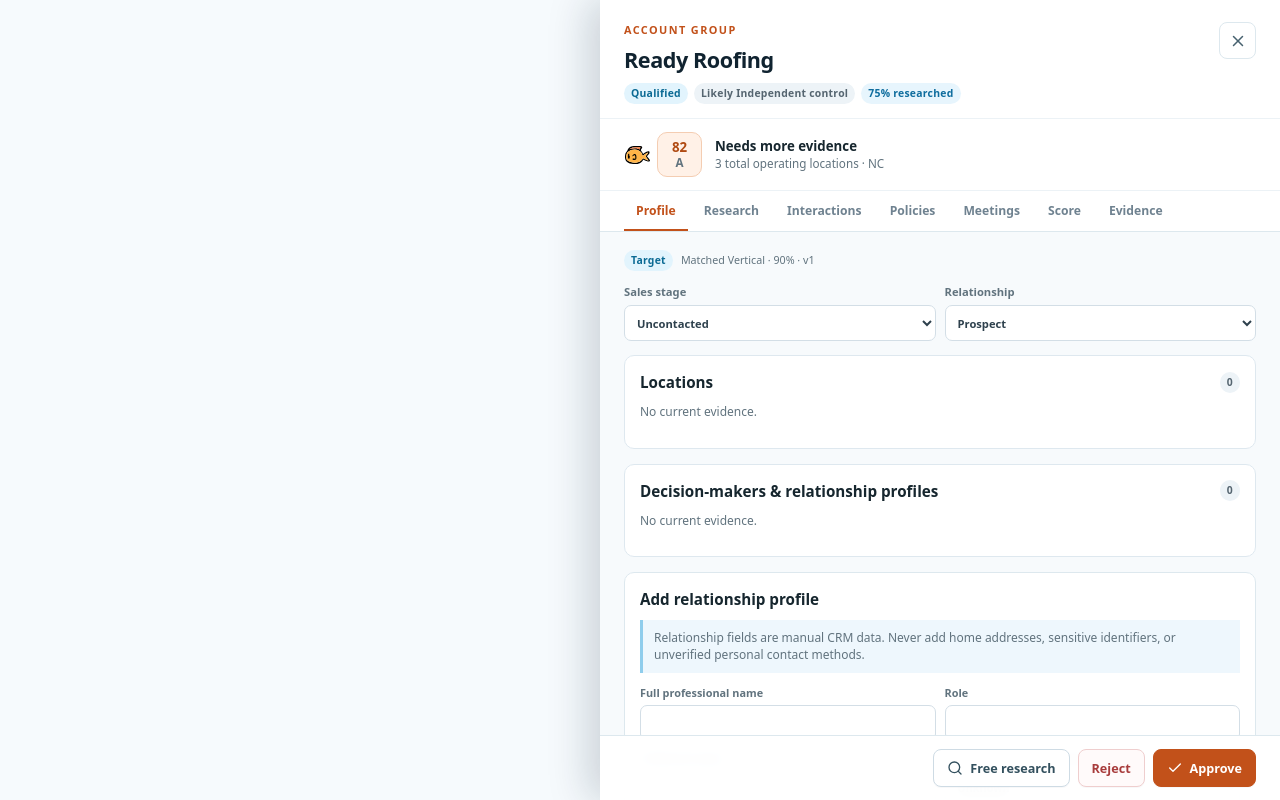
Test: LeadDetail CRM workspace › keeps interaction and policy history on the same account
What coordinates should you click on to do the following:
click the button "Interactions"
I would click on:
 (824, 211)
Its box is [775, 191, 874, 231].
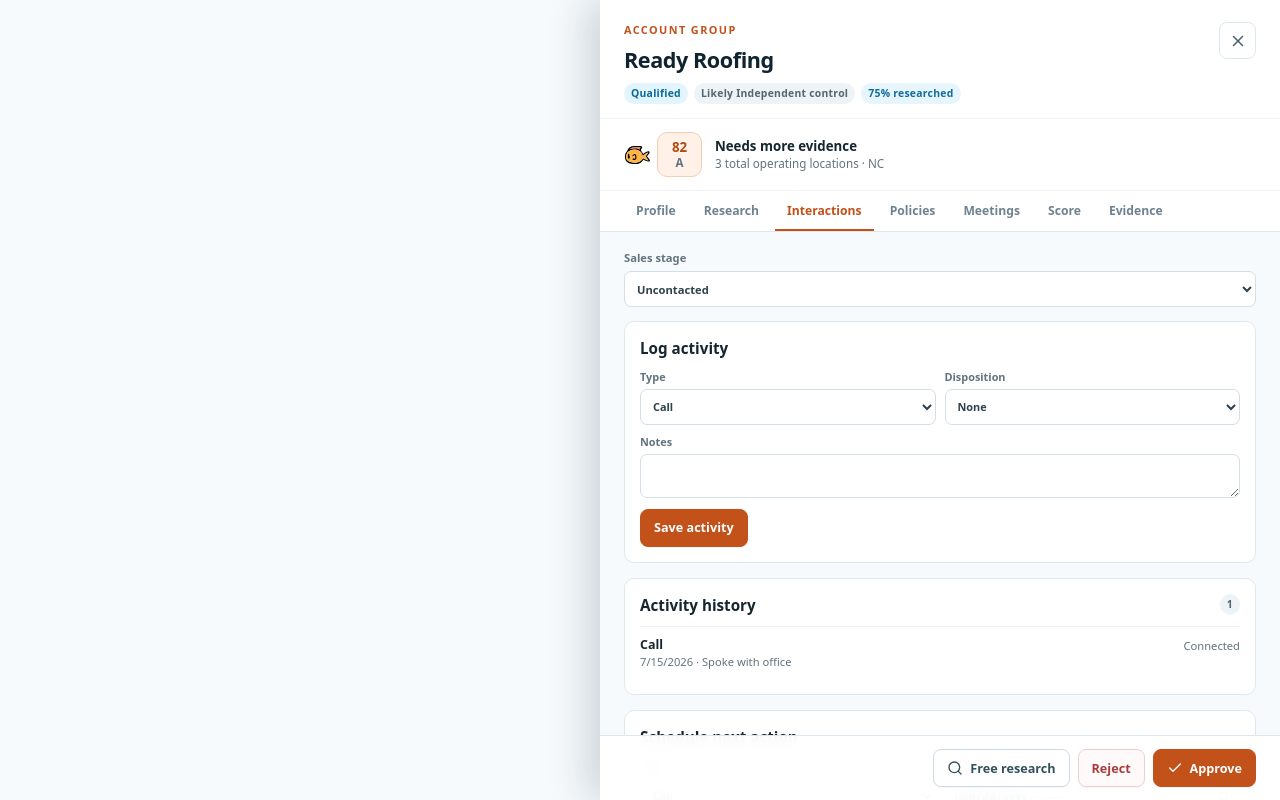
expect the text "7/15/2026 · Spoke with office" is shown: met, box [640, 654, 792, 670]
What coordinates should you click on to do the following:
click the button "Policies"
I would click on:
 (912, 211)
Its box is [878, 191, 947, 231].
(page scrolled)
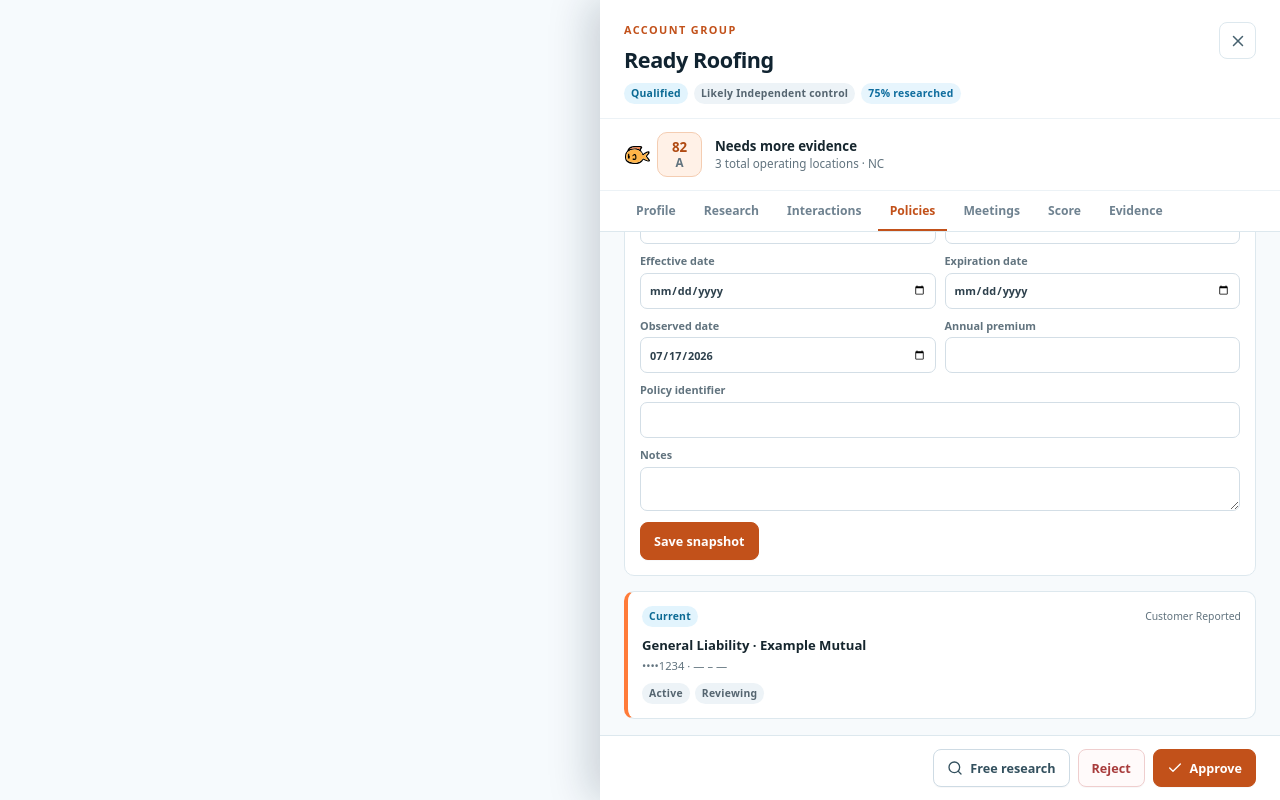
expect the heading "General Liability · Example Mutual" is shown: met, box [642, 636, 866, 654]
expect the text "Current" is shown: met, box [642, 606, 698, 627]
